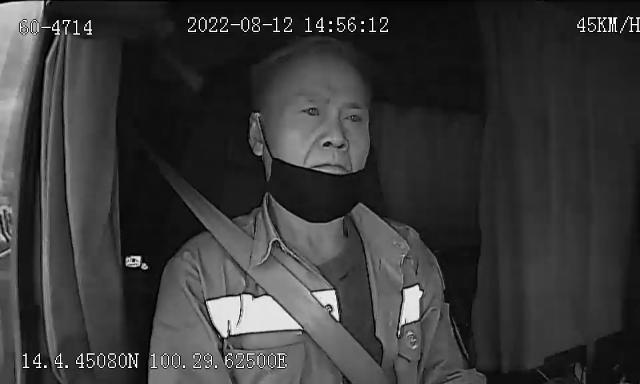SafeDriving: (337, 103, 370, 130), (294, 98, 326, 122)
Seatbelt: (164, 174, 388, 384)
